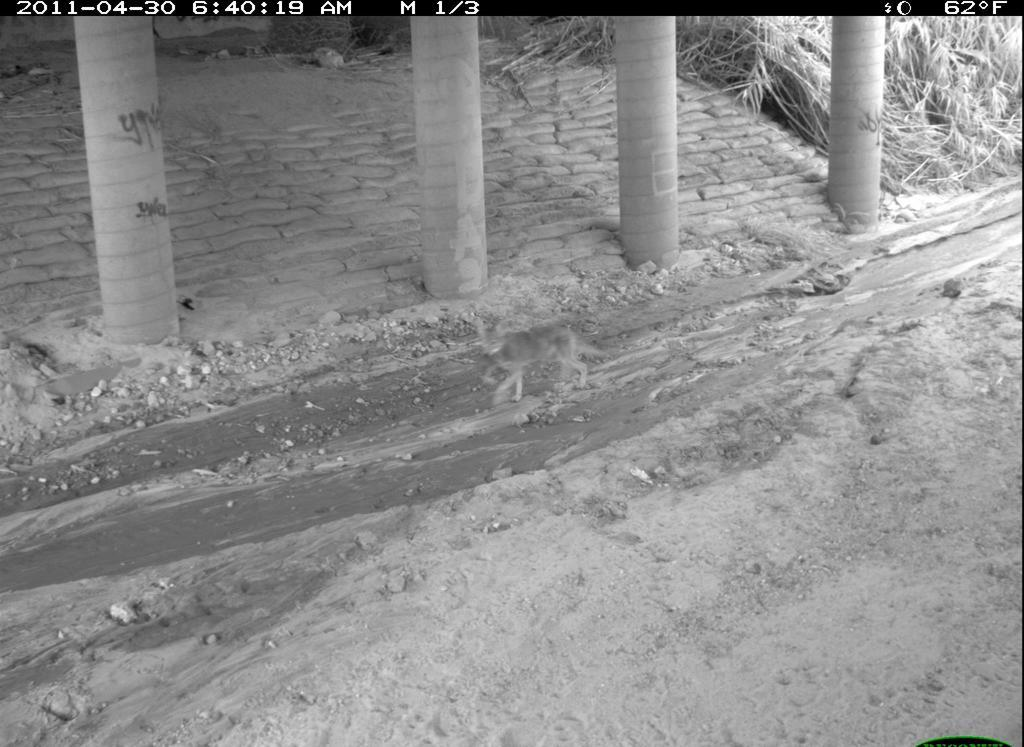coyote: (935, 622, 1024, 747)
rabbit: (950, 703, 1014, 747)
